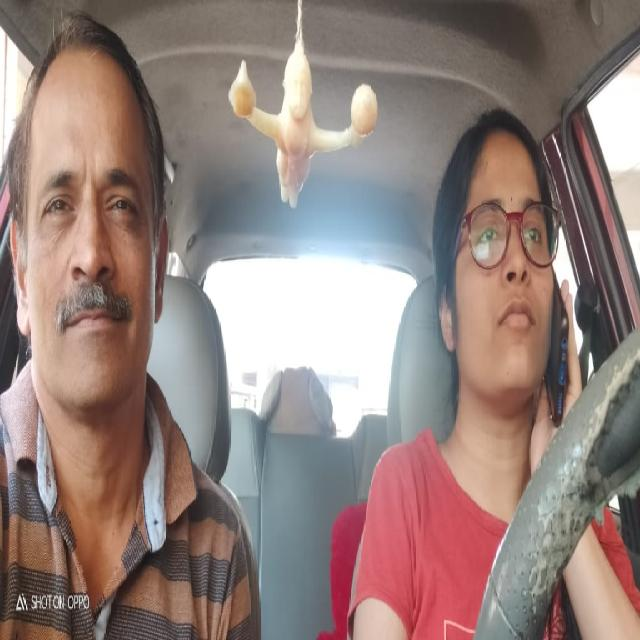mobile: (547, 281, 579, 438)
person: (4, 7, 169, 407), (427, 100, 555, 411)
